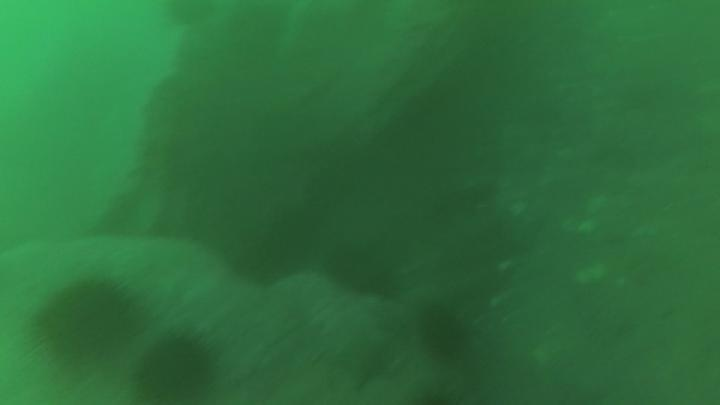echinus: (31, 274, 142, 370), (131, 328, 220, 404), (324, 242, 401, 301), (416, 302, 472, 363), (162, 1, 220, 29)
starfish: (333, 326, 394, 390)
